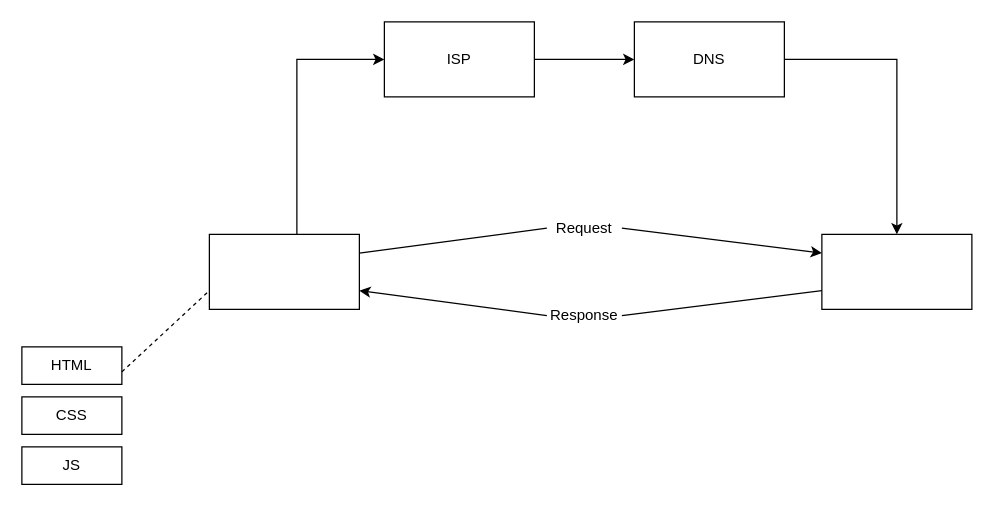
Image size: 994x506. Some labels were removed from this diagram. The centre of each missing label's shape, as x and y in pixels:
"BROWSER" goes at pixel 283 271.
"SERVER 63.42.24.124" goes at pixel 896 271.
